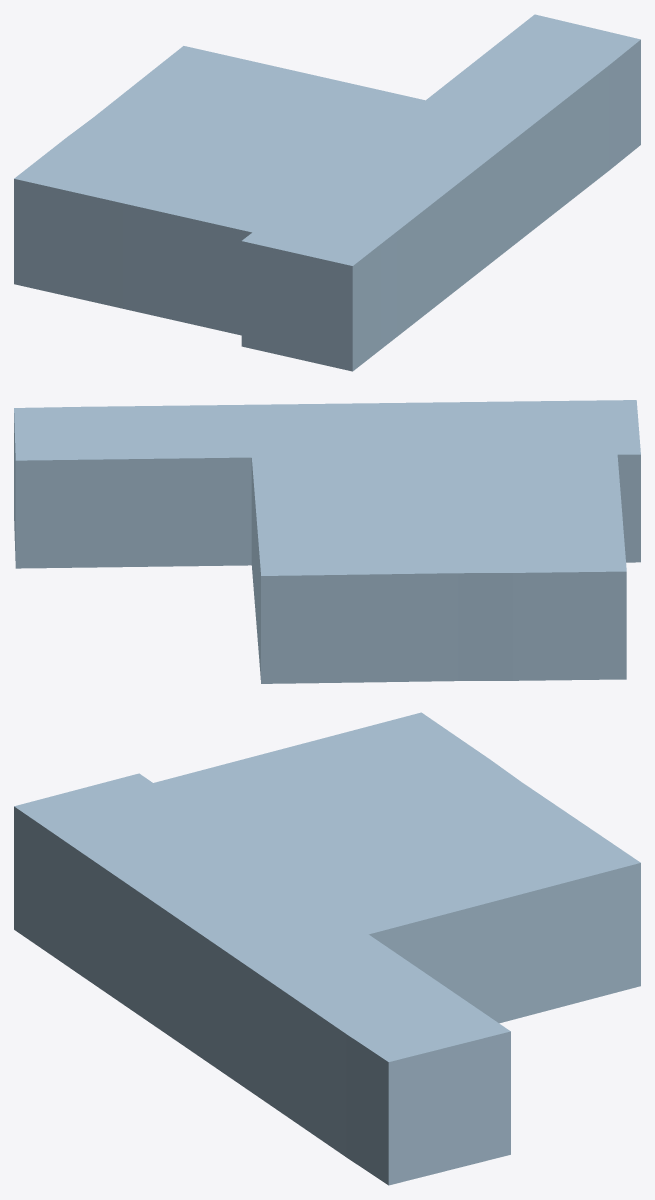
The model's file is osm_way_223944205.glb.
The picture shows the model from 3 angles, top to bottom: view 1: azimuth 30°, elevation 25°; view 2: azimuth 150°, elevation 25°; view 3: azimuth 270°, elevation 25°; orthographic projection. The views are drawn at different scales.
Visible parts, largest first — view 1: osm_way_223944205; view 2: osm_way_223944205; view 3: osm_way_223944205.
Part boxes in pixels (box(x1,y1,x2,y2)): osm_way_223944205: box(14, 14, 640, 371); osm_way_223944205: box(14, 400, 640, 683); osm_way_223944205: box(14, 712, 640, 1185).
Bounding box in the file's own units: 85.76 × 14.1 × 64.96.
